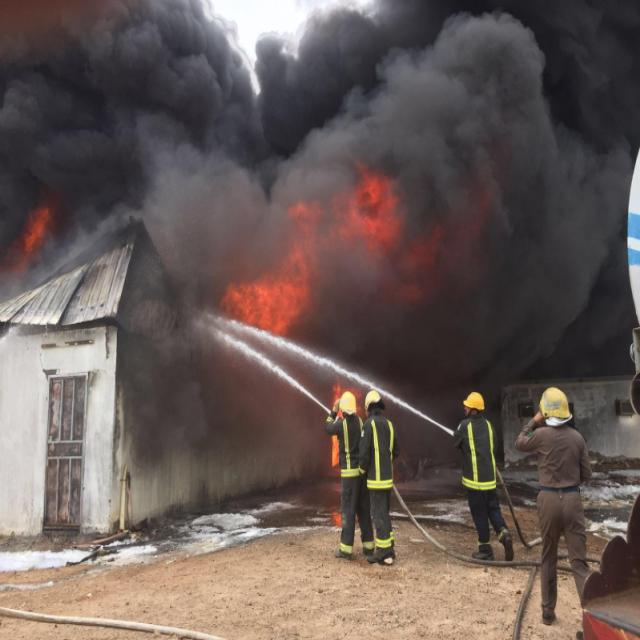Fire: (202, 160, 478, 374), (0, 198, 75, 310)
Smoke: (5, 6, 640, 150)
